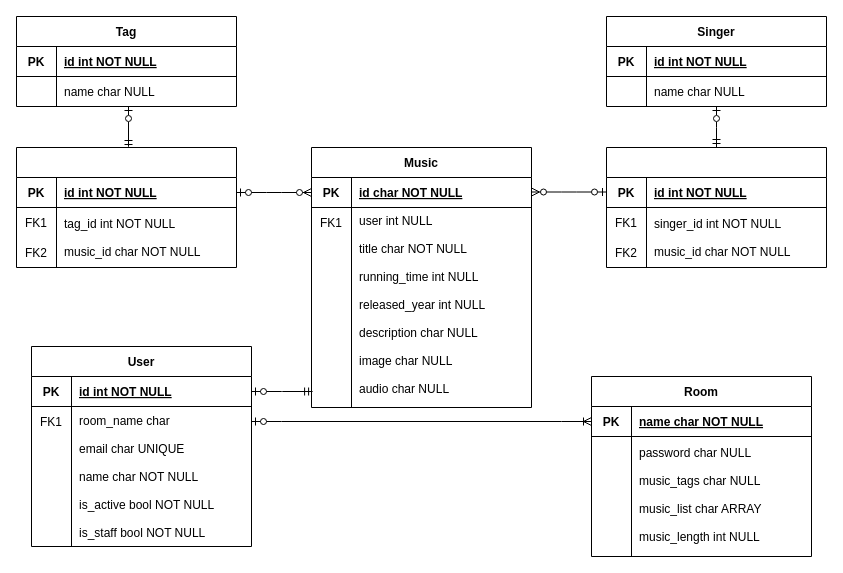
Image size: 843x573. Some labels were removed from this diagram. The box of each missing label's shape, as (x1, y1, x2, y2) in pixels:
Singer Music: (606, 146, 826, 268)
Tag_Music: (16, 146, 236, 268)
